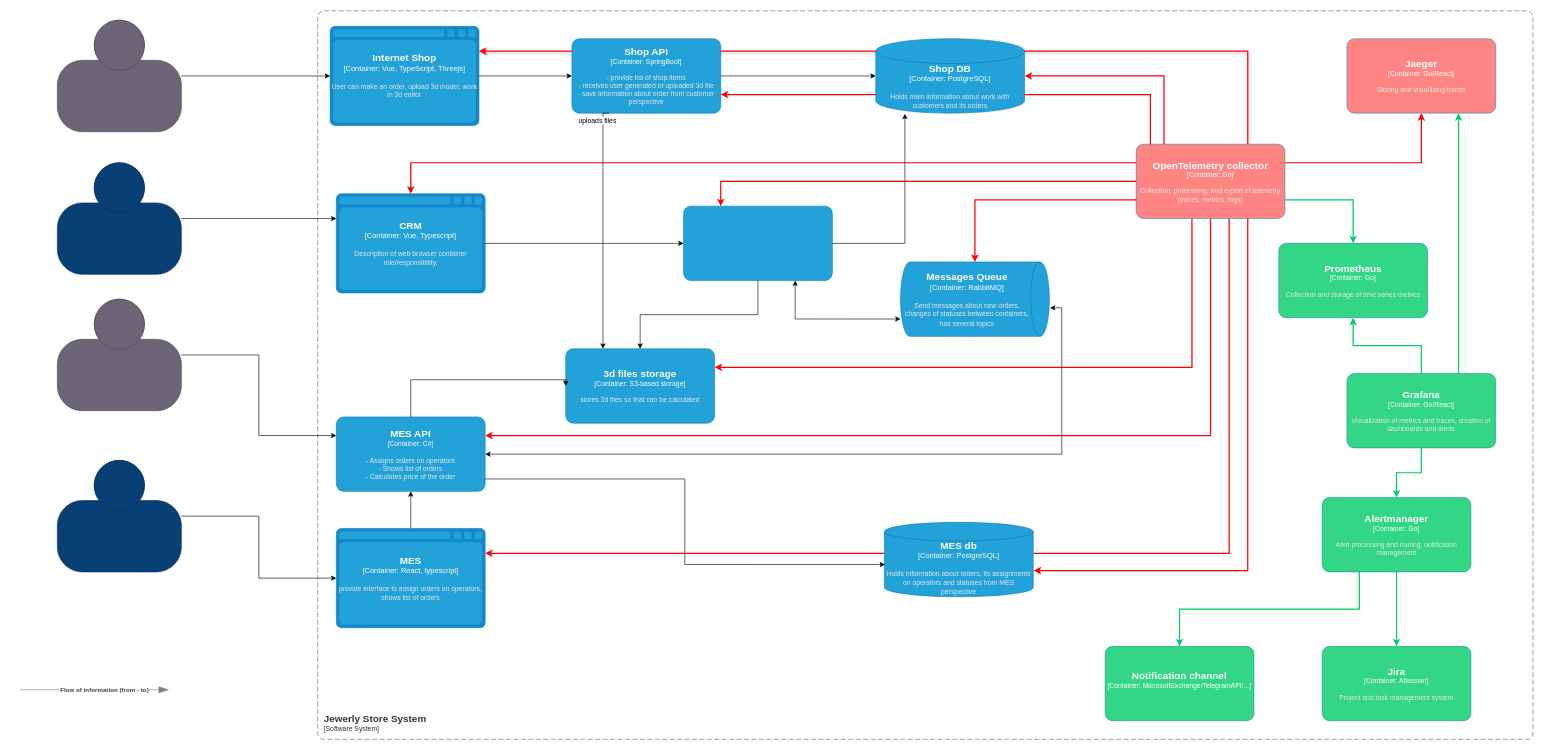
This 1544x750 diagram has some shape labels left out. Here are the shapes that lost their labels. From the top down, the centre of each, then its label:
point (119, 76): Customer [Person] Description of external person.
point (119, 218): Seller [Person] Operates with order, confirms manufacturing for the user
point (757, 243): CRM API [Container: SpringBoot] Description of container role/responsibility.
point (119, 355): API user [Person] Description of external person.
point (119, 516): Operator [Person] Takes order in work, manufactures jewerly
